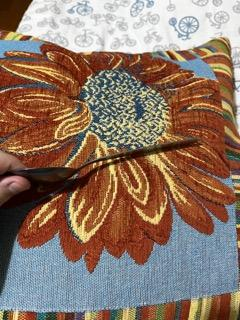spoon: (4, 136, 206, 186)
